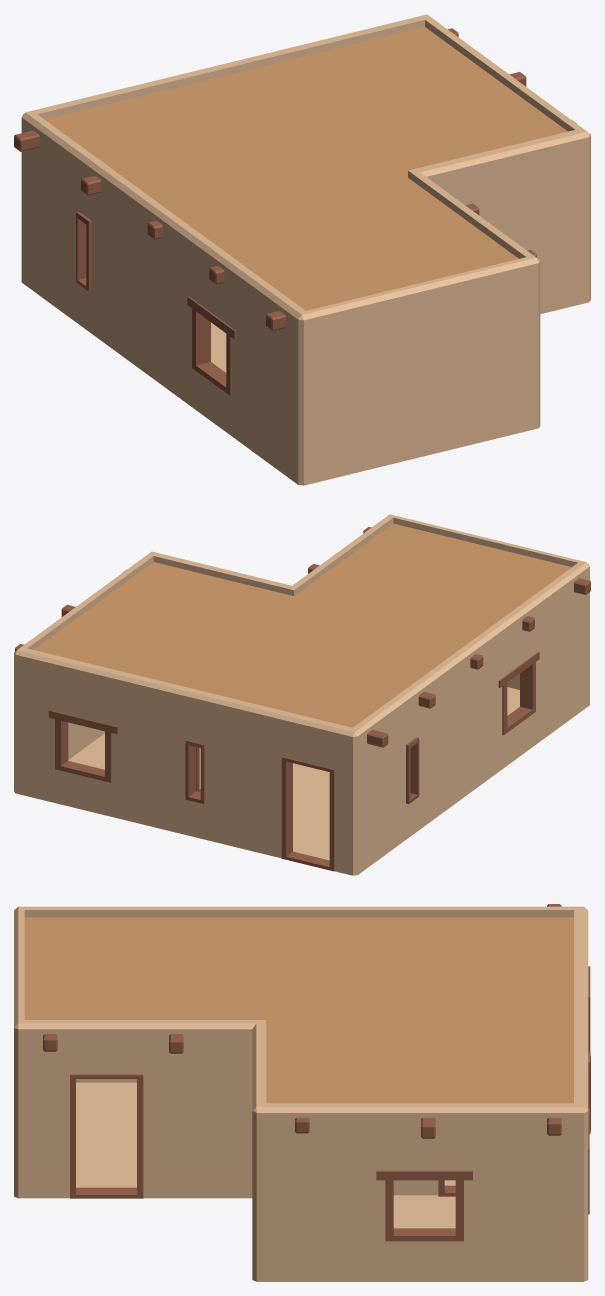
Rendered from Medium Building Frame A.fbx.
3 renders of one model, top to bottom at view 1: azimuth 30°, elevation 25°; view 2: azimuth 150°, elevation 25°; view 3: azimuth 270°, elevation 25°, orthographic. The views are drawn at different scales.
Parts seen in each view (by area): view 1: Medium Building Frame A; view 2: Medium Building Frame A; view 3: Medium Building Frame A.
Boxes of the visible parts, bbox=[...] form: Medium Building Frame A: bbox=[14, 14, 590, 485]; Medium Building Frame A: bbox=[14, 514, 590, 875]; Medium Building Frame A: bbox=[14, 904, 590, 1281].
Bounding box in the file's own units: 905 × 328 × 993.
